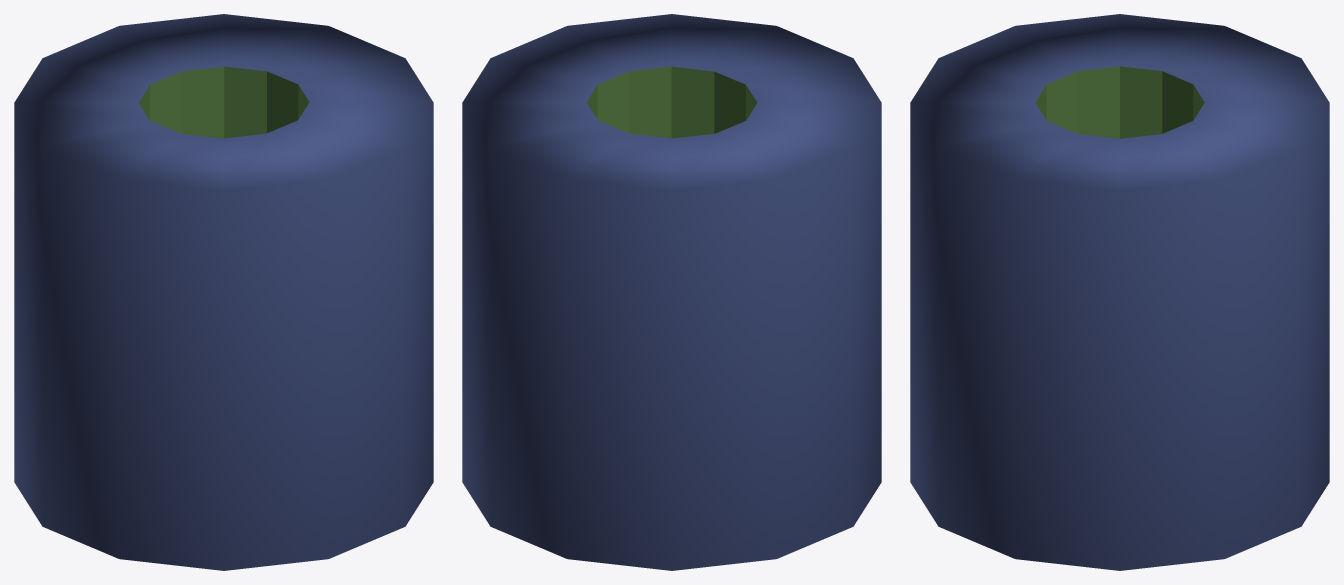
The model's file is toiletRoll.fbx.
The picture shows the model from 3 angles, left to right: view 1: azimuth 30°, elevation 25°; view 2: azimuth 150°, elevation 25°; view 3: azimuth 270°, elevation 25°; orthographic projection.
Parts seen in each view (by area): view 1: toiletroll; view 2: toiletroll; view 3: toiletroll.
Part boxes in pixels (<box>): toiletroll: <box>14,14,433,570</box>; toiletroll: <box>462,14,881,570</box>; toiletroll: <box>910,14,1329,570</box>.
Bounding box in the file's own units: 0.1555 × 0.1555 × 0.1555.
